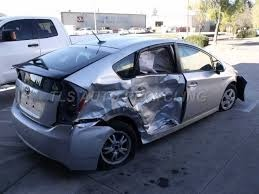Dent: (86, 74, 190, 137)
